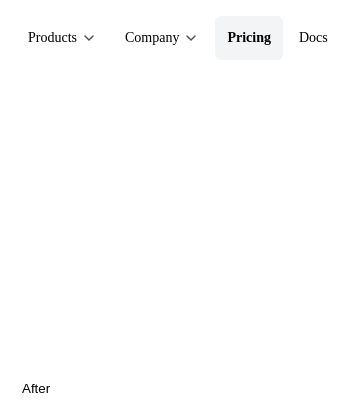
Test: pointer › waits for delayDuration before it opens
The image size is (351, 410).
Hover over the button "Products" at (62, 38), box [16,16,109,60]
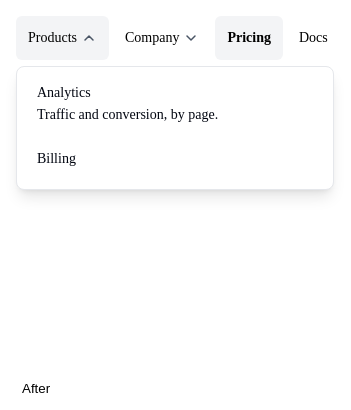
Expected: the link "Analytics Traffic and conversion, by page." is shown, [37,85,218,122]
